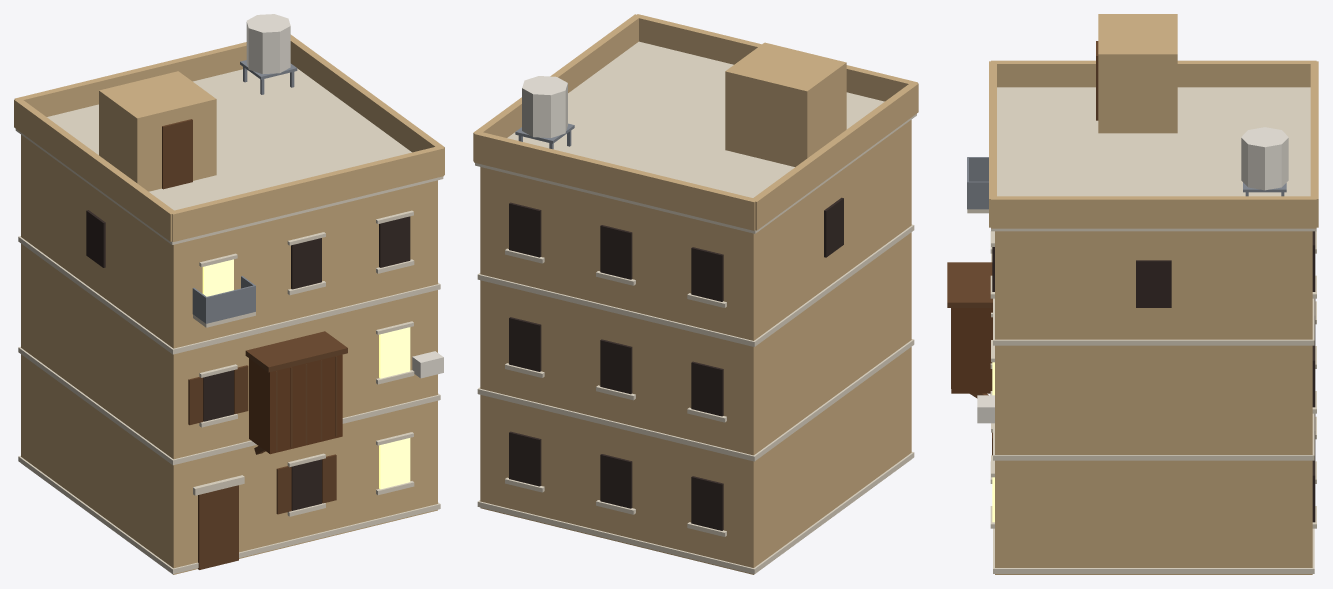
File: hus_kairo_1.glb
3 views of the same model, side by side, from view 1: azimuth 30°, elevation 25°; view 2: azimuth 150°, elevation 25°; view 3: azimuth 270°, elevation 25° (orthographic). The views are drawn at different scales.
Visible parts, largest first — view 1: hus_kairo_1; view 2: hus_kairo_1; view 3: hus_kairo_1.
Boxes of the visible parts, x1=… form: hus_kairo_1: x1=14, y1=14, x2=444, y2=574; hus_kairo_1: x1=473, y1=14, x2=918, y2=574; hus_kairo_1: x1=947, y1=14, x2=1318, y2=574.
Size of the model in its own units: 8.3 by 12.05 by 9.35.
